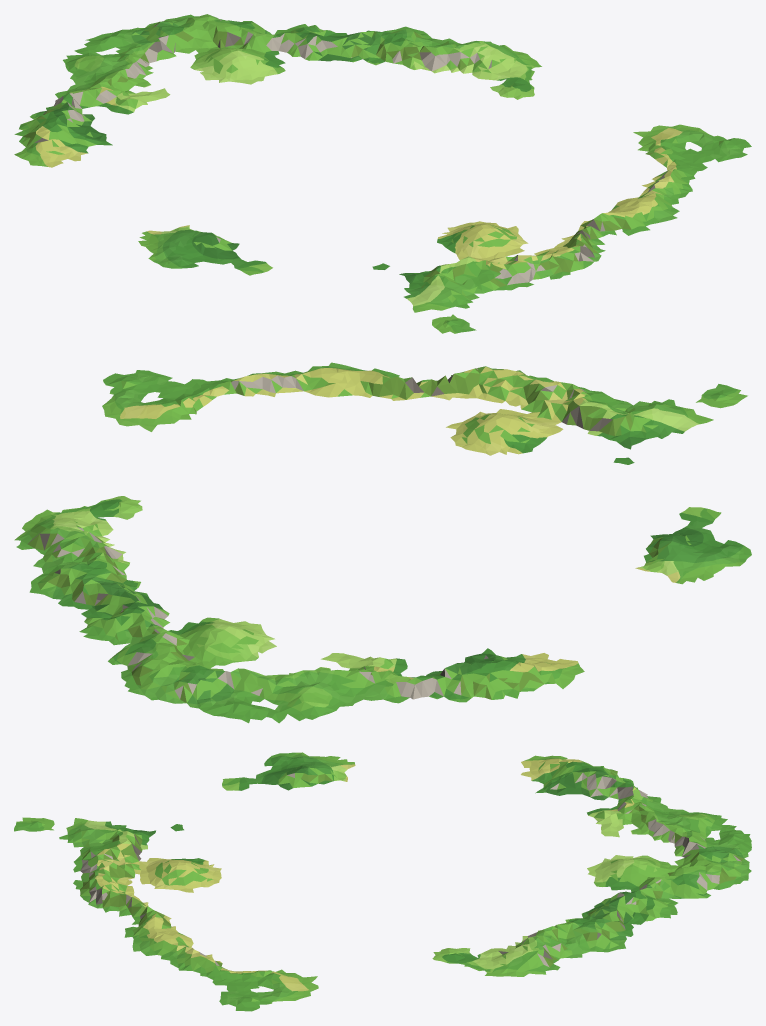
File: Isl-start6-Relief.fbx
The picture shows the model from 3 angles, top to bottom: view 1: azimuth 30°, elevation 25°; view 2: azimuth 150°, elevation 25°; view 3: azimuth 270°, elevation 25°; orthographic projection. The views are drawn at different scales.
Visible parts, largest first — view 1: Isl-start6-Relief-c22, Isl-start6-Relief-c12, Isl-start6-Relief-c21, Isl-start6-Relief-c11, Isl-start6-Relief-c10, Isl-start6-Relief-c13; view 2: Isl-start6-Relief-c22, Isl-start6-Relief-c12, Isl-start6-Relief-c21, Isl-start6-Relief-c11, Isl-start6-Relief-c13, Isl-start6-Relief-c10, Isl-start6-Relief-c23; view 3: Isl-start6-Relief-c22, Isl-start6-Relief-c21, Isl-start6-Relief-c12, Isl-start6-Relief-c11, Isl-start6-Relief-c13, Isl-start6-Relief-c10.
Part boxes in pixels (x1,y1,x2,y2): Isl-start6-Relief-c22: (174,14,541,99); Isl-start6-Relief-c12: (14,22,250,167); Isl-start6-Relief-c21: (447,124,751,286); Isl-start6-Relief-c11: (138,225,526,312); Isl-start6-Relief-c10: (432,305,476,333); Isl-start6-Relief-c13: (75,21,172,50); Isl-start6-Relief-c22: (14,496,260,685); Isl-start6-Relief-c12: (173,624,584,723); Isl-start6-Relief-c21: (102,362,583,455); Isl-start6-Relief-c11: (498,384,751,584); Isl-start6-Relief-c13: (158,681,278,723); Isl-start6-Relief-c10: (669,384,747,408); Isl-start6-Relief-c23: (124,676,172,700); Isl-start6-Relief-c22: (432,857,736,976); Isl-start6-Relief-c21: (73,855,318,1011); Isl-start6-Relief-c12: (521,755,736,868); Isl-start6-Relief-c11: (60,752,355,869); Isl-start6-Relief-c13: (727,826,751,868); Isl-start6-Relief-c10: (14,817,66,838).
Size of the model in its own units: 83.41 by 2.42 by 101.
